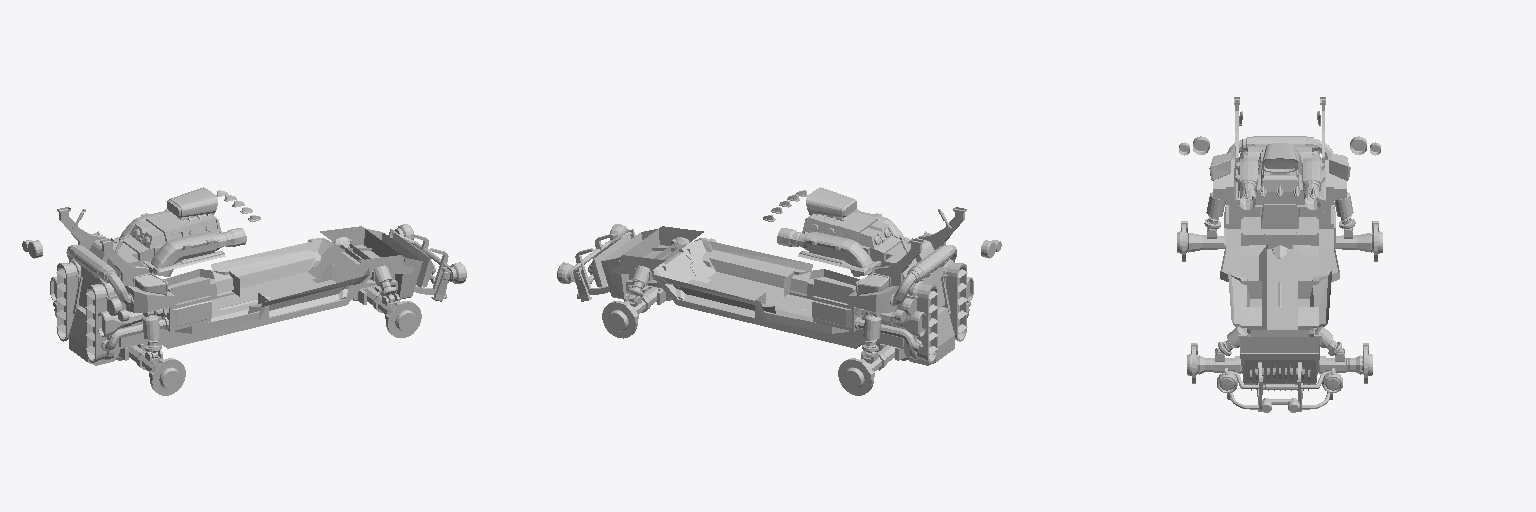
File: Octane_Chassis.obj
3 renders of one model, left to right at view 1: azimuth 30°, elevation 25°; view 2: azimuth 150°, elevation 25°; view 3: azimuth 270°, elevation 25°, orthographic.
Visible parts, largest first — view 1: Body_Octane_PremiumSkin_SK.002; view 2: Body_Octane_PremiumSkin_SK.002; view 3: Body_Octane_PremiumSkin_SK.002.
Part boxes in pixels (bbox=[...]): Body_Octane_PremiumSkin_SK.002: bbox=[22, 187, 466, 395]; Body_Octane_PremiumSkin_SK.002: bbox=[557, 187, 1001, 395]; Body_Octane_PremiumSkin_SK.002: bbox=[1177, 97, 1382, 412].
Bounding box in the file's own units: 131 × 51.24 × 63.37.